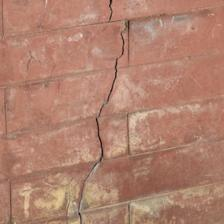Crack: (0, 0, 84, 69), (66, 107, 158, 121), (66, 156, 80, 194)
